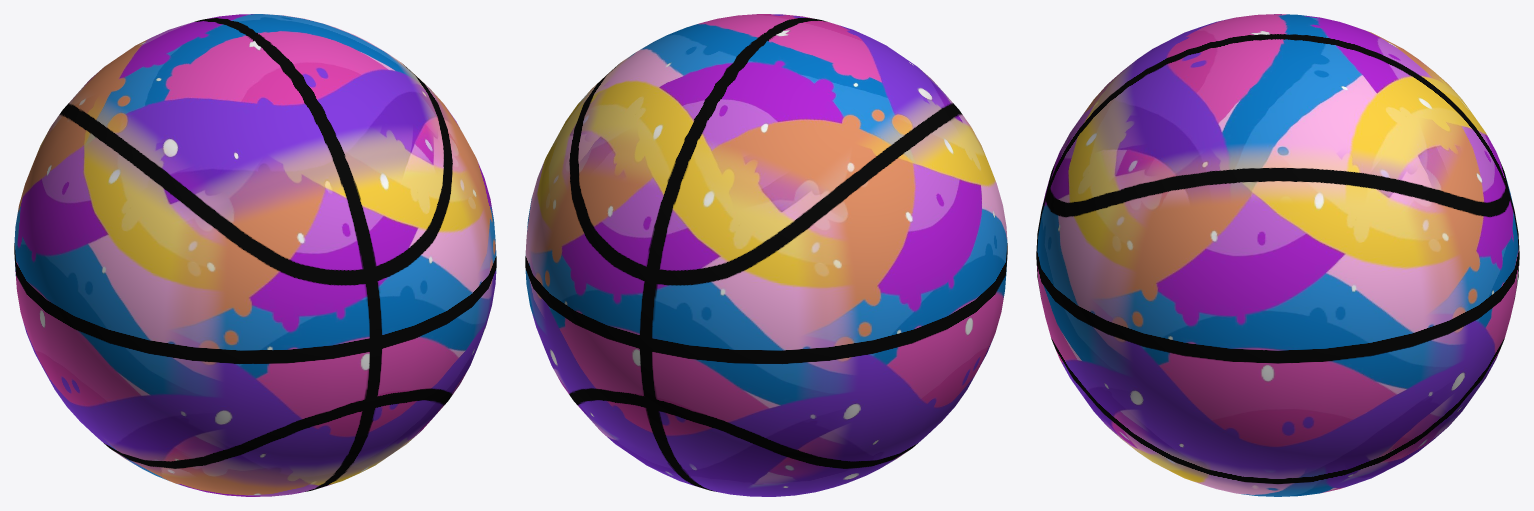
The model's file is Basic Skin 3.fbx.
3 views of the same model, side by side, from view 1: azimuth 30°, elevation 25°; view 2: azimuth 150°, elevation 25°; view 3: azimuth 270°, elevation 25° (orthographic).
Visible parts, largest first — view 1: Basketball_Ball_Skin_Basic_3; view 2: Basketball_Ball_Skin_Basic_3; view 3: Basketball_Ball_Skin_Basic_3.
Part boxes in pixels (x1,y1,x2,y2): Basketball_Ball_Skin_Basic_3: (14, 14, 496, 496); Basketball_Ball_Skin_Basic_3: (525, 14, 1007, 496); Basketball_Ball_Skin_Basic_3: (1036, 14, 1519, 496).
Bounding box in the file's own units: 0.2402 × 0.2402 × 0.2402.
Materials: 1 (1 with a texture image).
